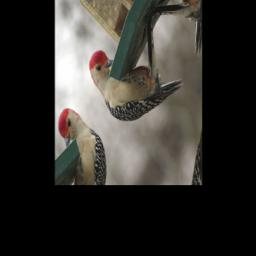Woodpecker: (82, 0, 188, 162)
